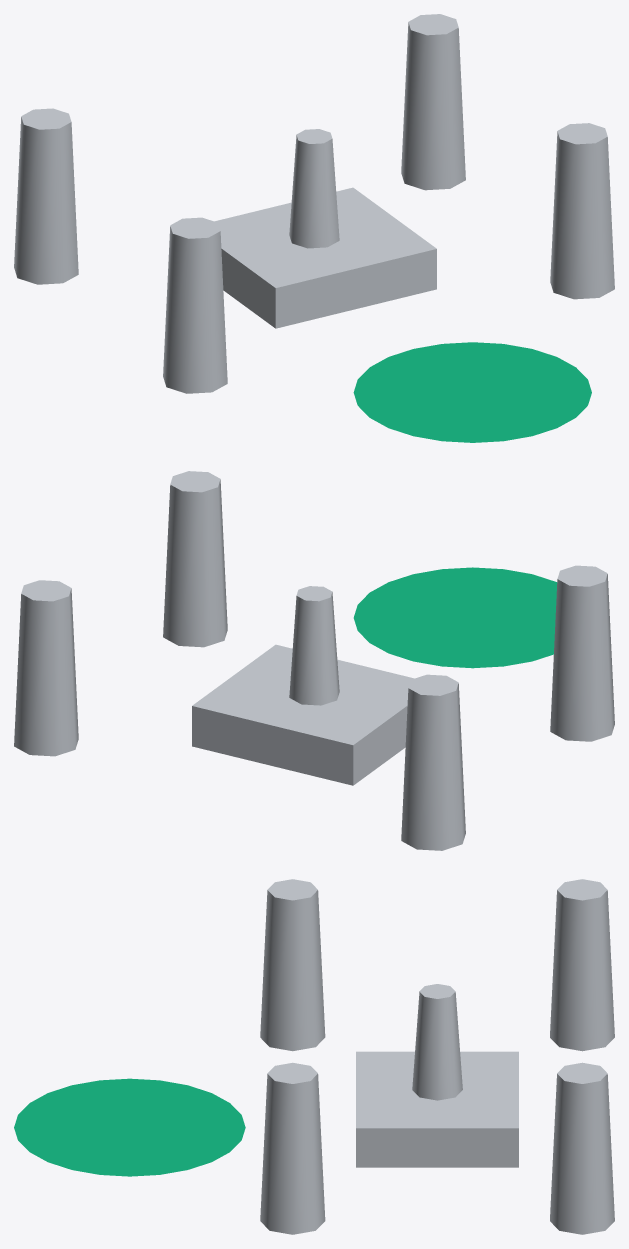
File: nor_03.glb
The picture shows the model from 3 angles, top to bottom: view 1: azimuth 30°, elevation 25°; view 2: azimuth 150°, elevation 25°; view 3: azimuth 270°, elevation 25°; orthographic projection. The views are drawn at different scales.
Visible parts, largest first — view 1: NOR_03; view 2: NOR_03; view 3: NOR_03.
Boxes of the visible parts, x1,y1,x2,y2 form: NOR_03: (14, 14, 614, 442); NOR_03: (14, 471, 614, 850); NOR_03: (14, 879, 614, 1234).
Size of what is drawn, in the model's own units: 13.8 by 4.5 by 16.6.
